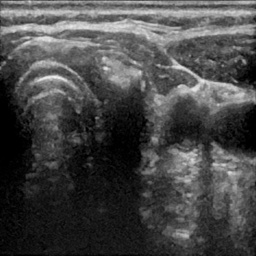mass: (61, 49, 144, 166)
